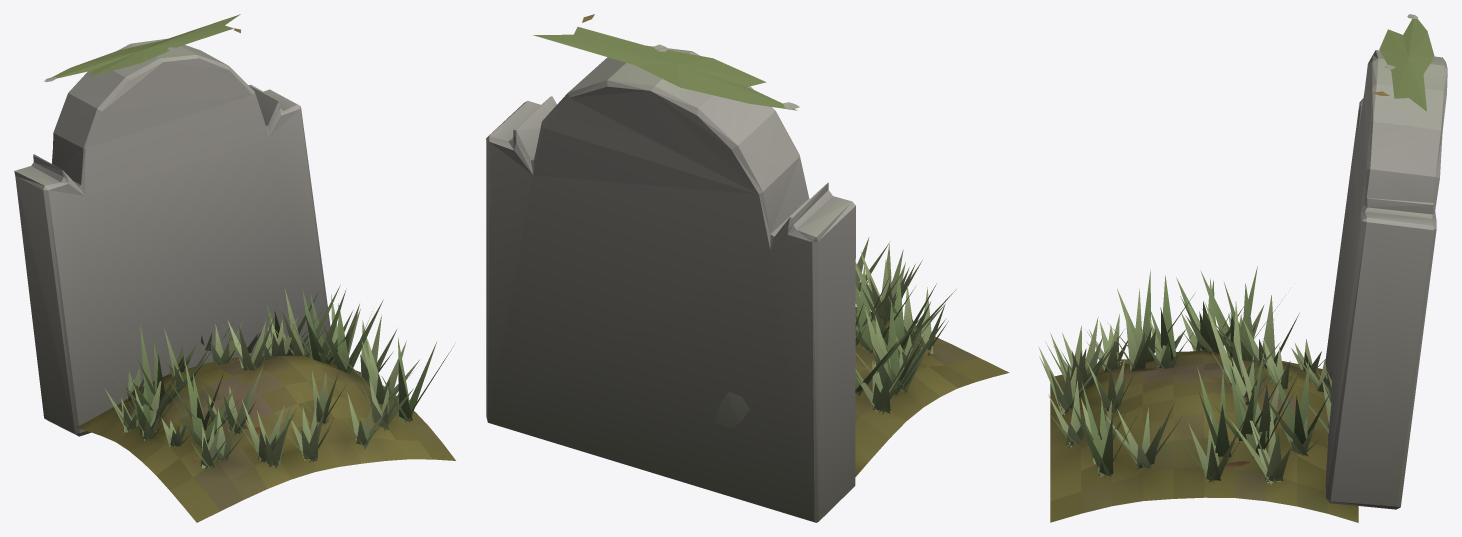
The model's file is headstone_a.glb.
3 renders of one model, left to right at view 1: azimuth 30°, elevation 25°; view 2: azimuth 150°, elevation 25°; view 3: azimuth 270°, elevation 25°, orthographic. The views are drawn at different scales.
Parts seen in each view (by area): view 1: headstone_a; view 2: headstone_a; view 3: headstone_a.
Part boxes in pixels (x1,y1,x2,y2): headstone_a: (14,14,455,522); headstone_a: (486,14,1009,522); headstone_a: (1038,14,1447,522).
Size of the model in its own units: 1.33 by 1.54 by 1.43.
